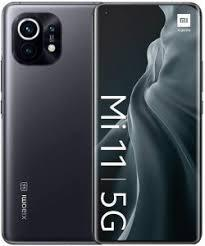Smartphone: (7, 0, 101, 239), (102, 6, 198, 240)
